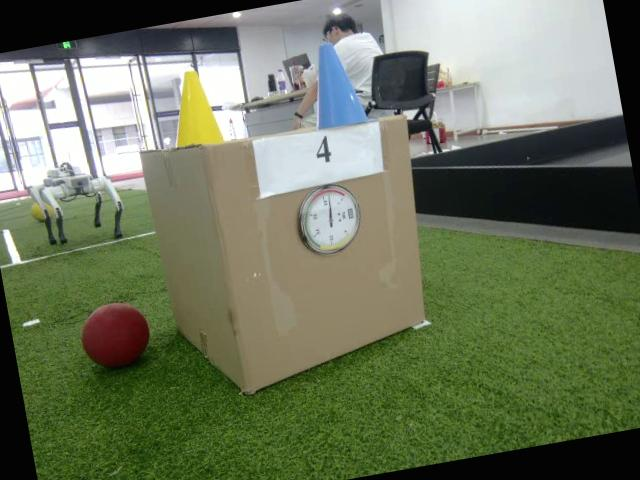4: (313, 133, 335, 166)
Dashboard: (290, 177, 368, 258)
blue_barrel: (298, 37, 370, 131)
red_ball: (74, 296, 156, 374)
ssi: (344, 206, 356, 221)
yellow_barrel: (162, 64, 228, 154)
